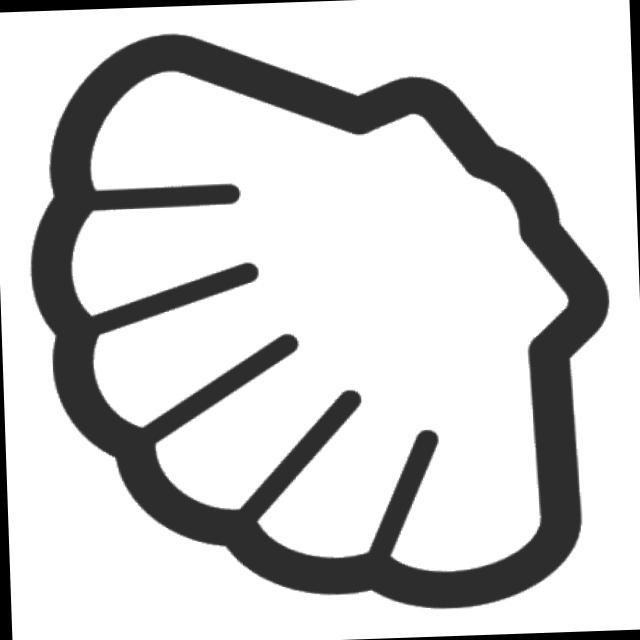shell: (9, 5, 632, 633)
